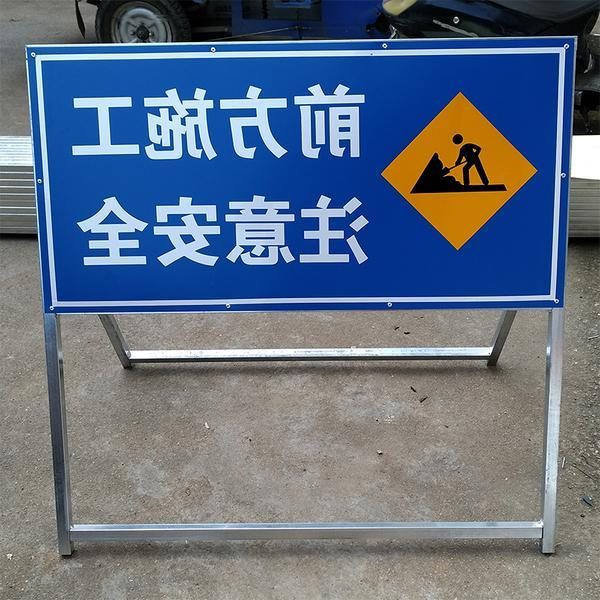sign: (30, 38, 575, 311)
